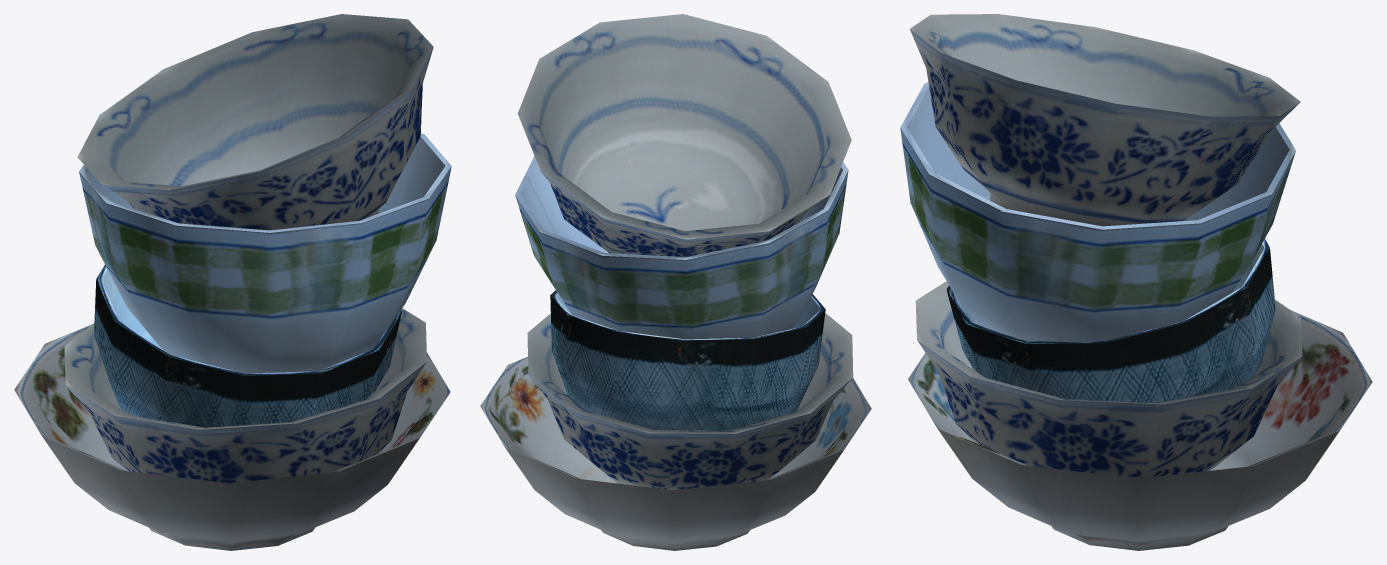
Rendered from stack_bowls-3.FBX.
The picture shows the model from 3 angles, left to right: view 1: azimuth 30°, elevation 25°; view 2: azimuth 150°, elevation 25°; view 3: azimuth 270°, elevation 25°; orthographic projection. The views are drawn at different scales.
Parts seen in each view (by area): view 1: stack_bowls-3_LOD0; view 2: stack_bowls-3_LOD0; view 3: stack_bowls-3_LOD0.
Part boxes in pixels (box(x1,y1,x2,y2)): stack_bowls-3_LOD0: box(14, 14, 451, 550); stack_bowls-3_LOD0: box(480, 14, 871, 550); stack_bowls-3_LOD0: box(900, 14, 1372, 550).
Size of what is drawn, in the model's own units: 11.94 by 14.26 by 12.13.
